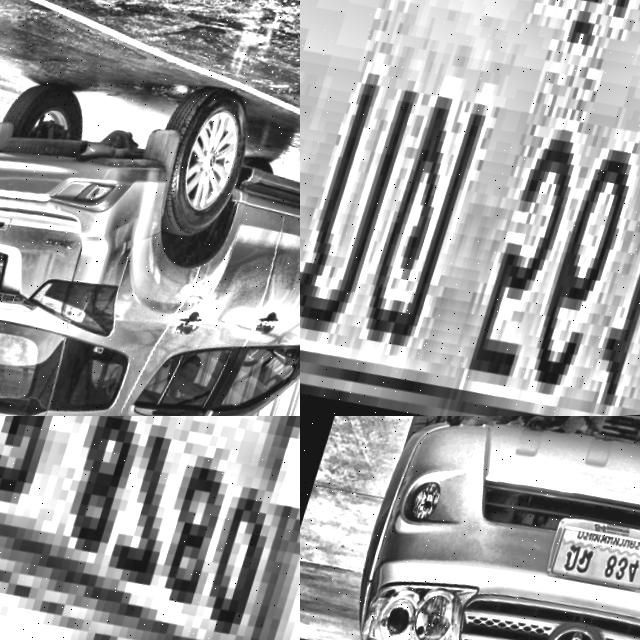license-plate: (300, 0, 640, 416), (0, 416, 300, 640), (537, 500, 640, 614), (0, 239, 16, 303)
